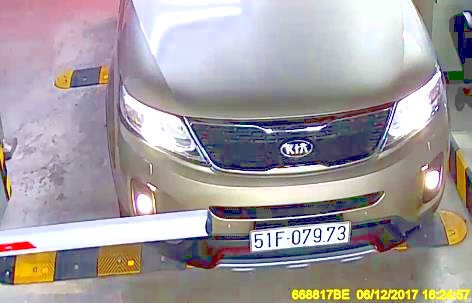plate: (248, 216, 357, 255)
